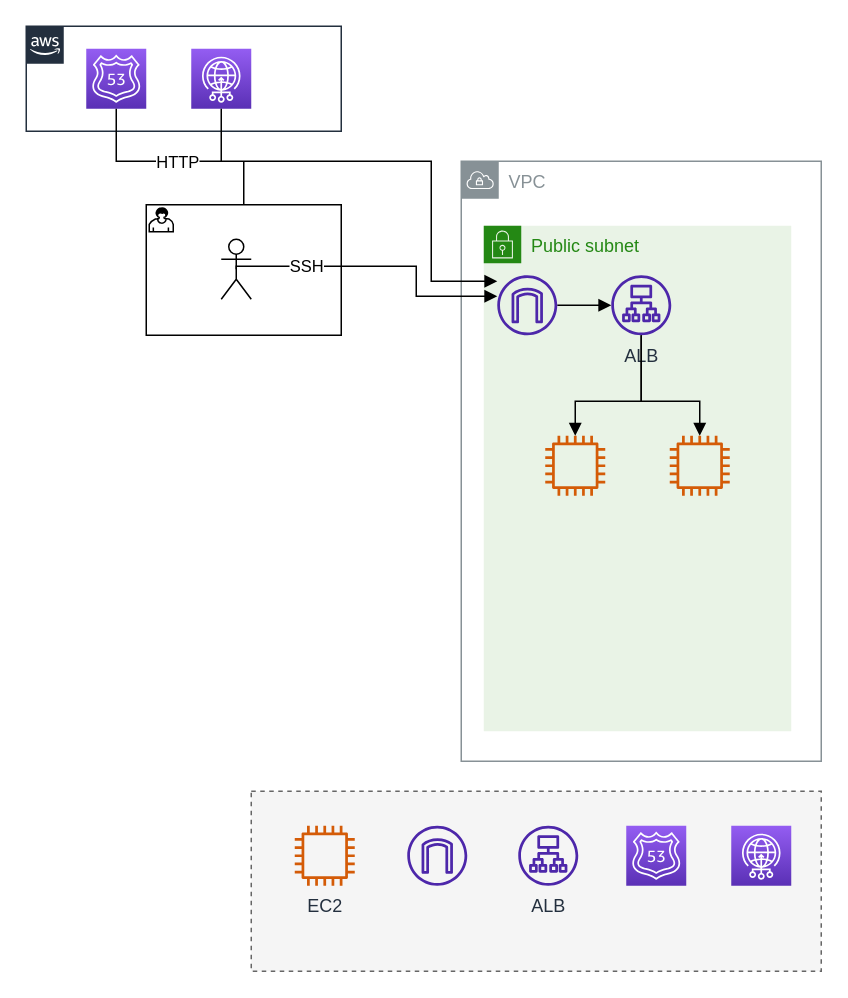
This 848x998 diagram has some shape labels left out. The box of each missing label's shape, as (x1, y1, x2, y2) in pixels:
Global Accelerator: (730, 824, 791, 886)
Internet Gateway: (406, 825, 466, 885)
Route 53: (625, 824, 686, 886)
